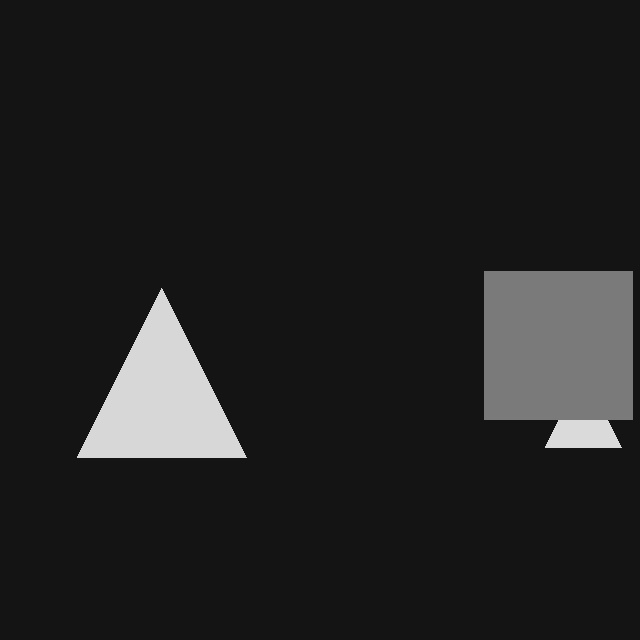square: (484, 271, 632, 419)
triangle: (77, 288, 246, 457), (545, 371, 621, 447)
